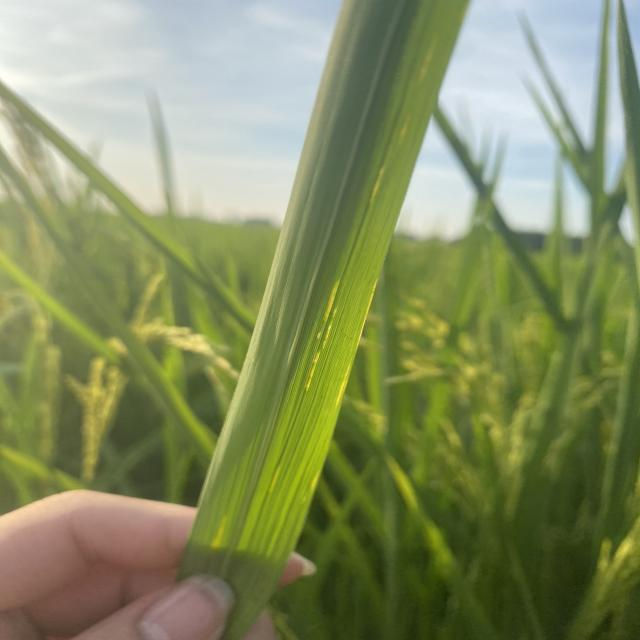Dom soc vi khuan: (355, 277, 379, 352), (334, 358, 352, 408), (323, 279, 341, 323), (303, 351, 321, 391), (321, 324, 332, 349)
